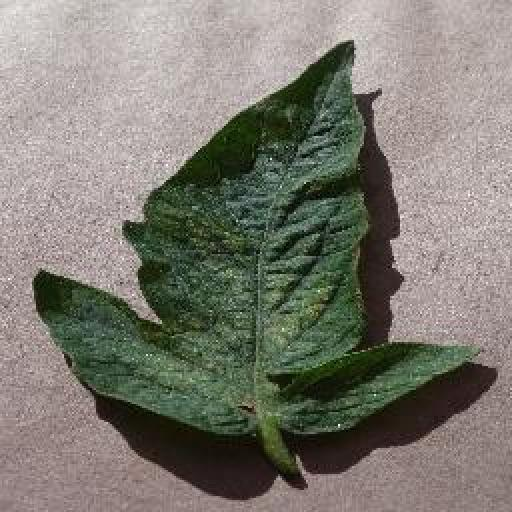disease_tomato: (30, 36, 486, 440)
